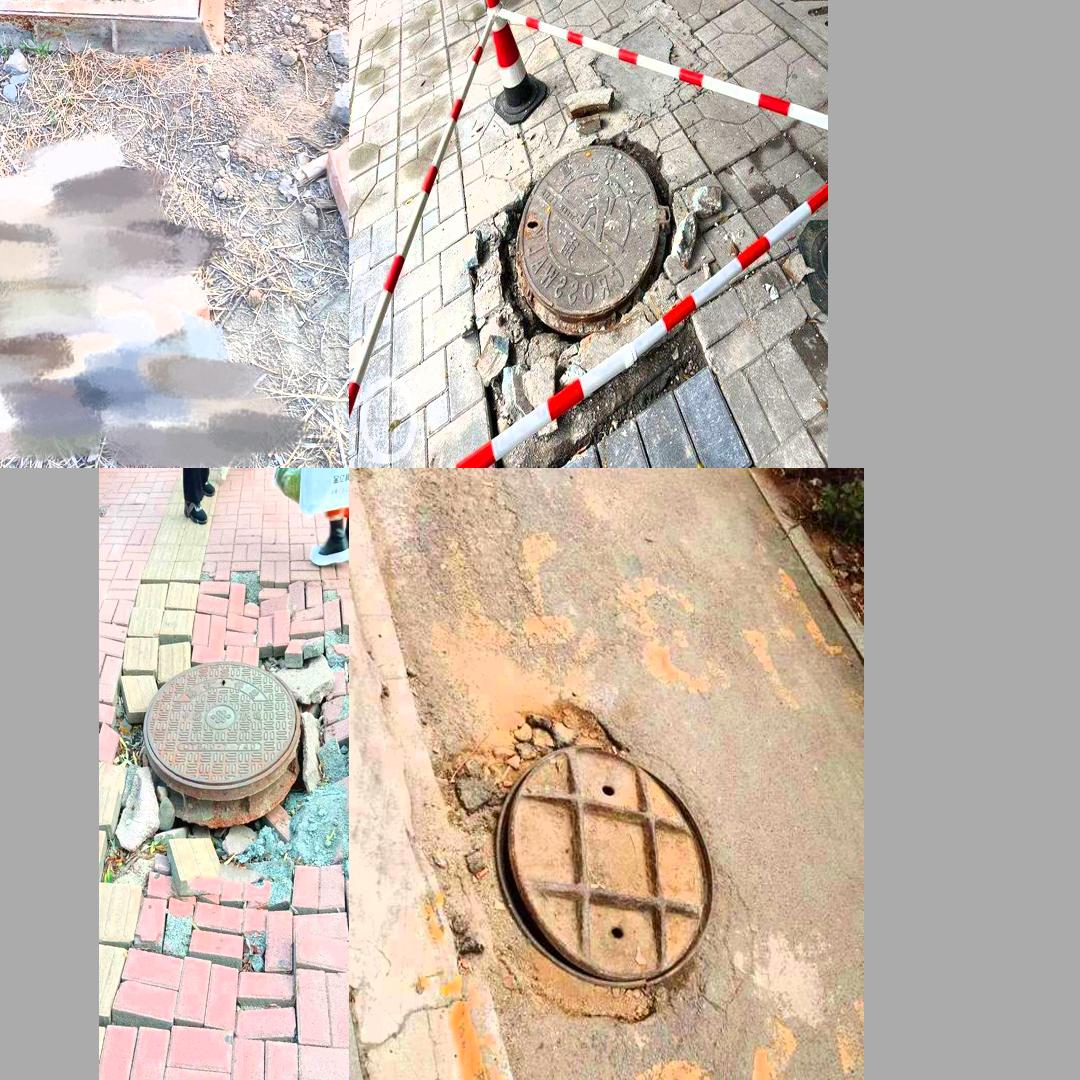circle: (406, 670, 735, 1062), (104, 590, 346, 982), (476, 111, 709, 449), (0, 0, 247, 60)
